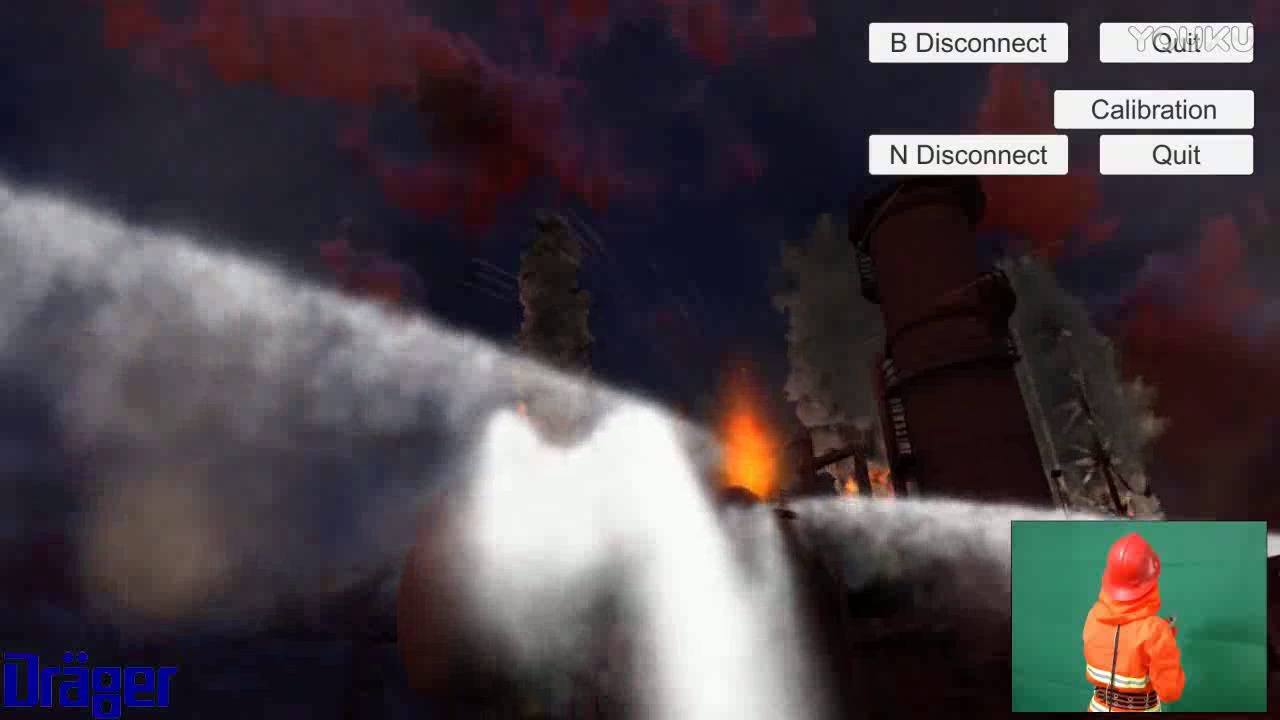fire: (705, 384, 788, 503)
